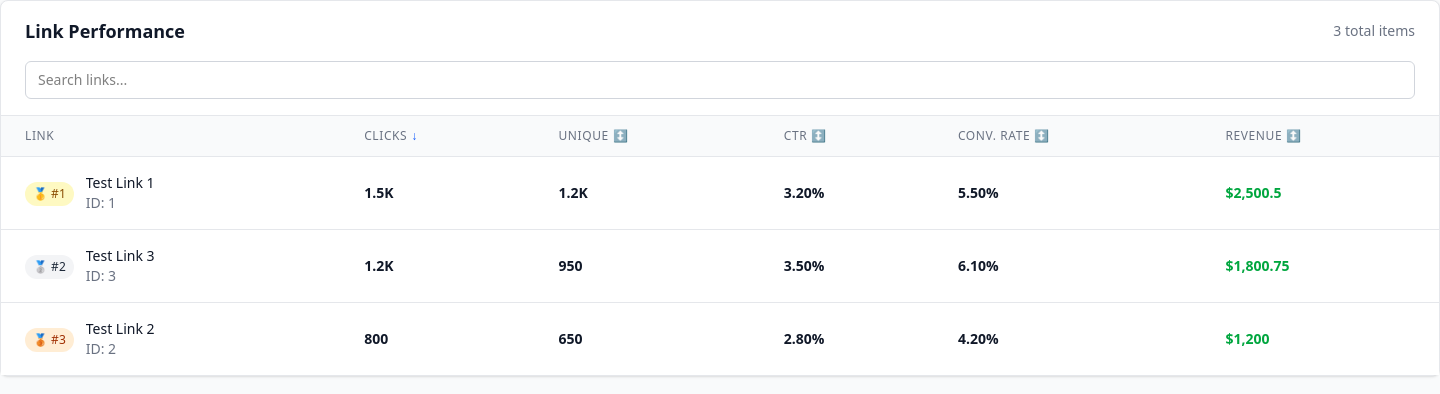
PerformanceTable › should filter data based on search input
The width and height of the screenshot is (1440, 394).
Type "Test Link 1" into the field with placeholder "Search links..." at (720,80), box x1=25 y1=61 x2=1415 y2=99
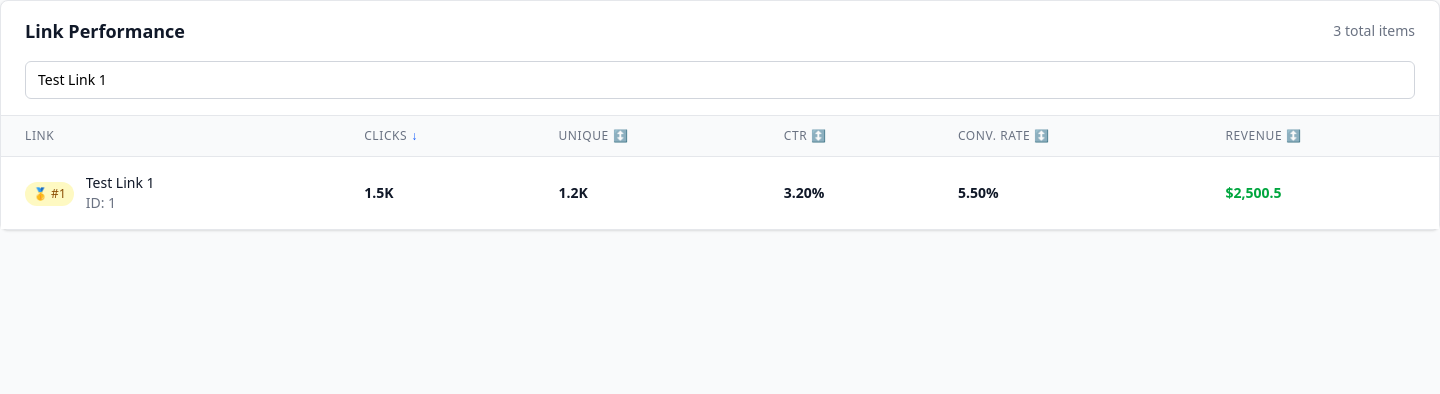
Check: the text "Test Link 1" is shown, box x1=86 y1=173 x2=155 y2=192
Check: the text "Test Link 2" is gone
Check: the text "Test Link 3" is gone
